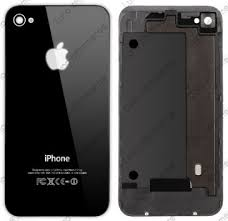iphone: (3, 2, 112, 218)
iphone4: (3, 2, 112, 218)
